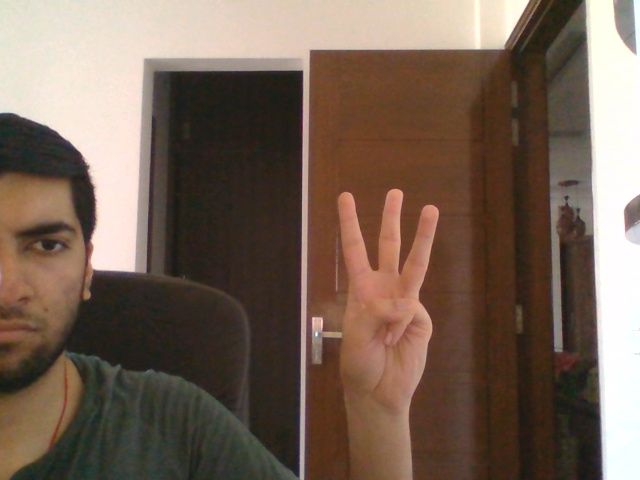LetterW: (336, 186, 441, 416)
